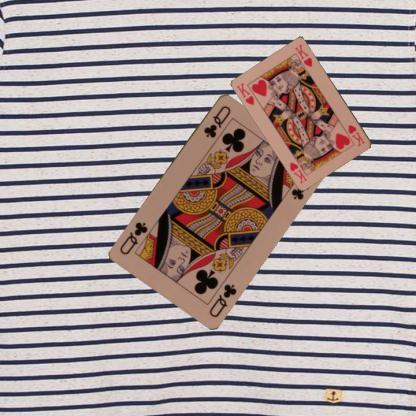Kh: (234, 80, 257, 107), (346, 122, 366, 148)
Qc: (206, 281, 238, 318), (201, 102, 232, 139)
